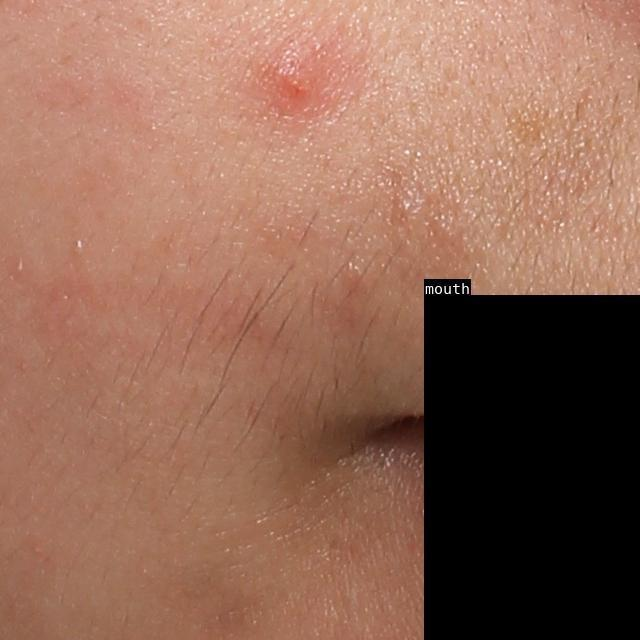papule: (273, 49, 323, 102)
